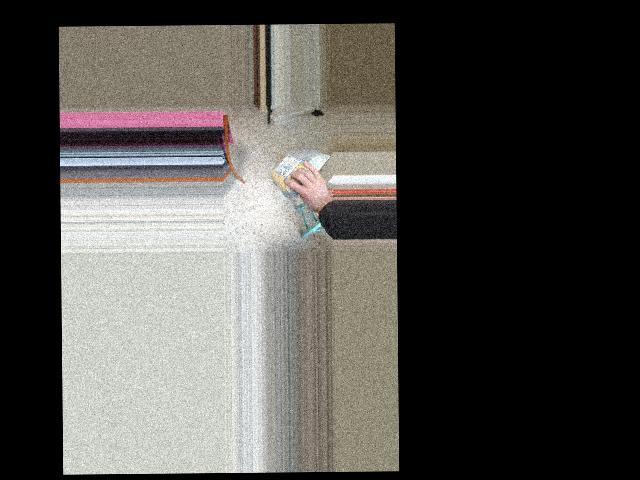cheese: (270, 150, 329, 194)
